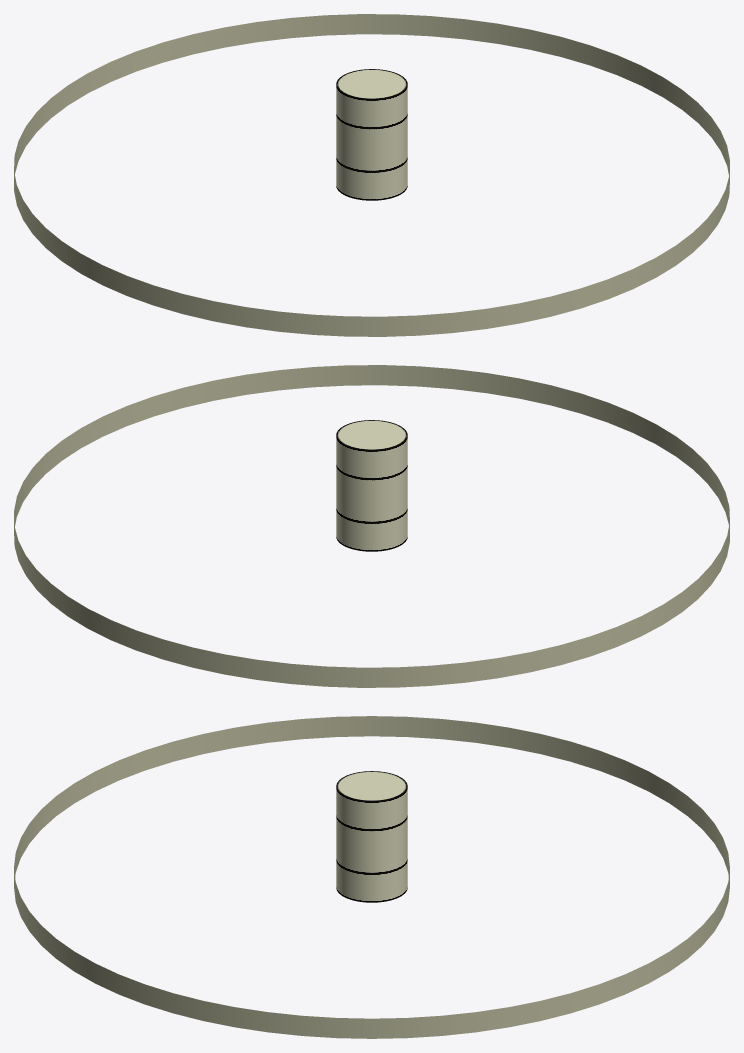
Rendered from barrel_b_r4.obj.
3 views of the same model, one above another, from view 1: azimuth 30°, elevation 25°; view 2: azimuth 150°, elevation 25°; view 3: azimuth 270°, elevation 25° (orthographic).
Visible parts, largest first — view 1: barrel_b_r4; view 2: barrel_b_r4; view 3: barrel_b_r4.
Boxes of the visible parts, box(x1,y1,x2,y2) form: barrel_b_r4: box(14, 14, 729, 336); barrel_b_r4: box(14, 365, 729, 687); barrel_b_r4: box(14, 716, 729, 1038).
Bounding box in the file's own units: 8 × 1.25 × 8.
3 materials, 3 textured.
